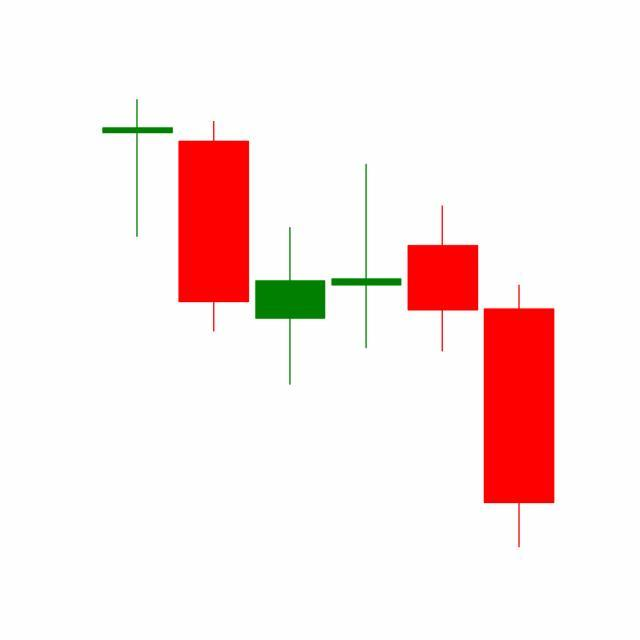Three Outside Up-Down: (326, 160, 555, 549)
